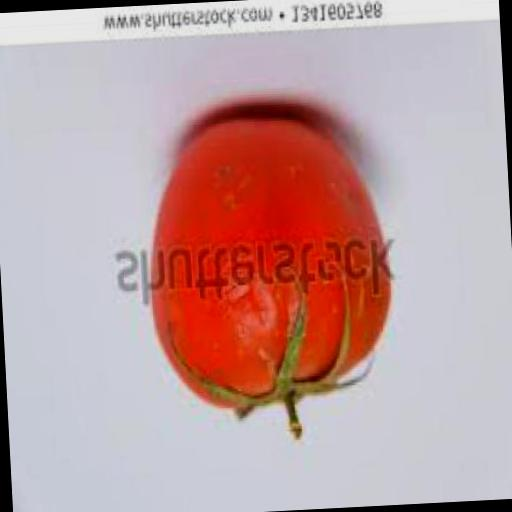biodegradable: (142, 116, 396, 448)
